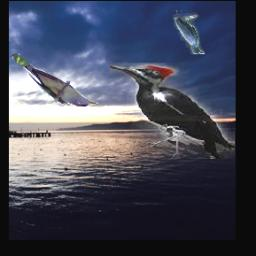Crow: (173, 11, 205, 55)
Cuckoo: (12, 54, 97, 107)
Woodpecker: (109, 64, 234, 160)
